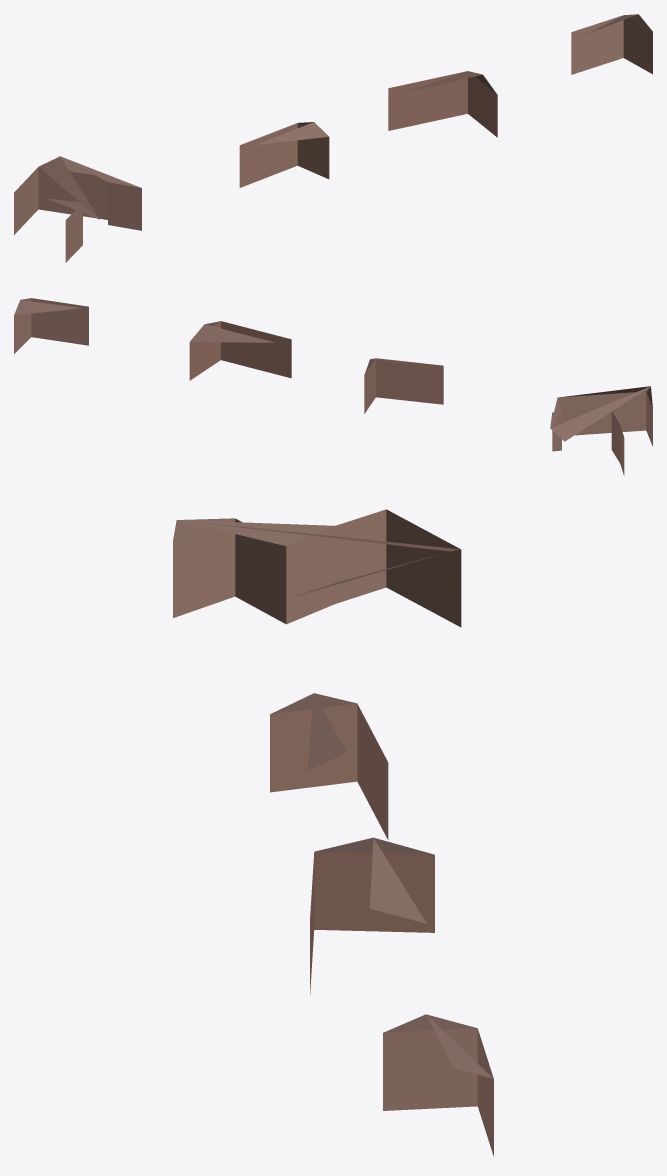
Rendered from c_1647_17834_buildings_residential.glb.
3 views of the same model, one above another, from view 1: azimuth 30°, elevation 25°; view 2: azimuth 150°, elevation 25°; view 3: azimuth 270°, elevation 25° (orthographic). The views are drawn at different scales.
Visible parts, largest first — view 1: geometry_0; view 2: geometry_0; view 3: geometry_0.
Boxes of the visible parts, bbox=[...] form: geometry_0: bbox=[14, 14, 652, 262]; geometry_0: bbox=[14, 298, 652, 475]; geometry_0: bbox=[173, 509, 493, 1156].
Size of the model in its own units: 142 by 10.68 by 33.45.
